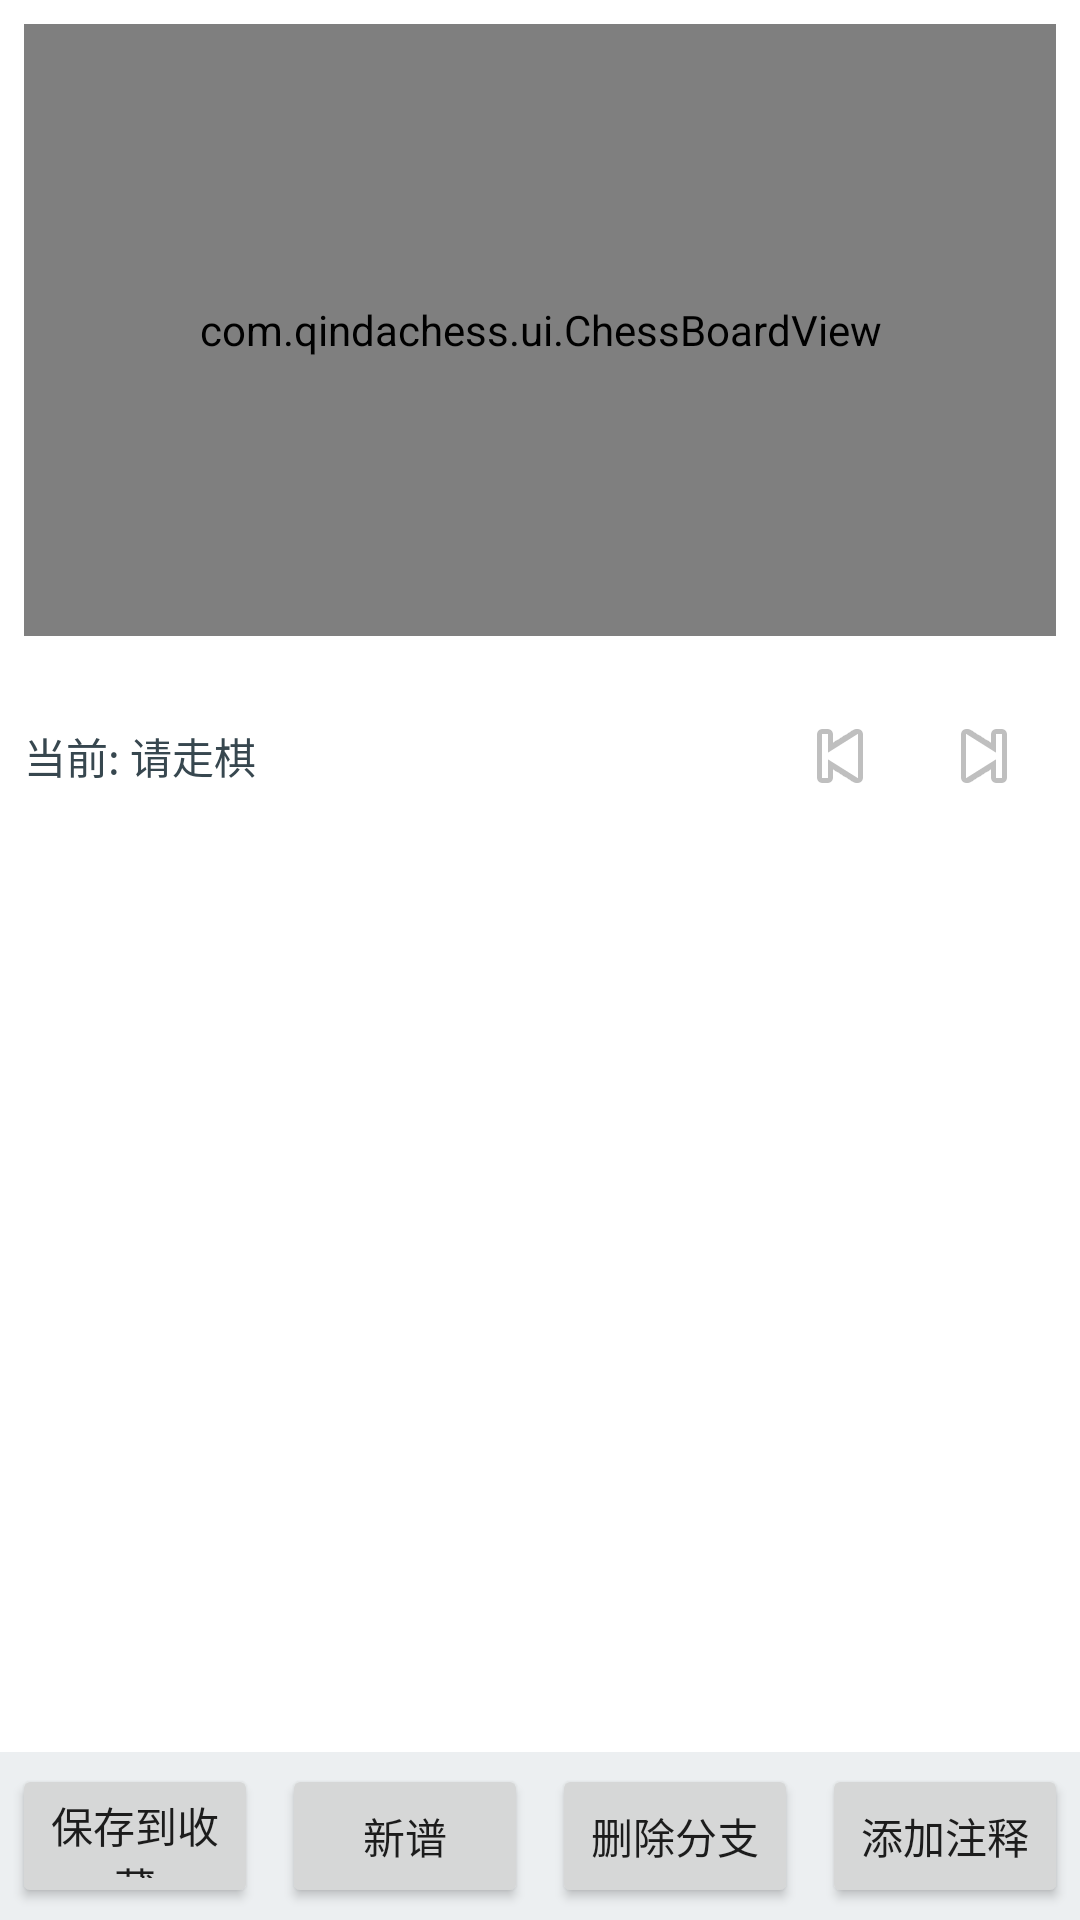

Icon bounding boxes for this 1080×1920 phone screenshot, format BBox(x1, y1, x2, y2):
下一步: BBox(961, 729, 1007, 783)
悔棋: BBox(817, 729, 863, 783)
